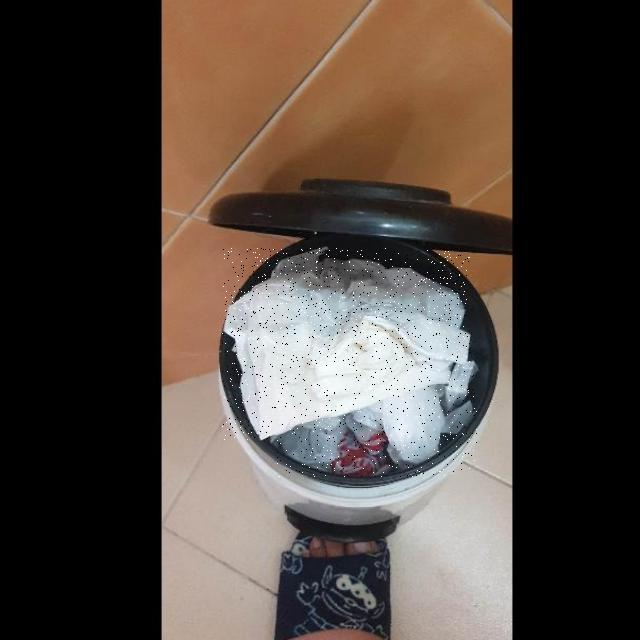paper: (222, 248, 470, 440)
plastic: (276, 361, 477, 477)
